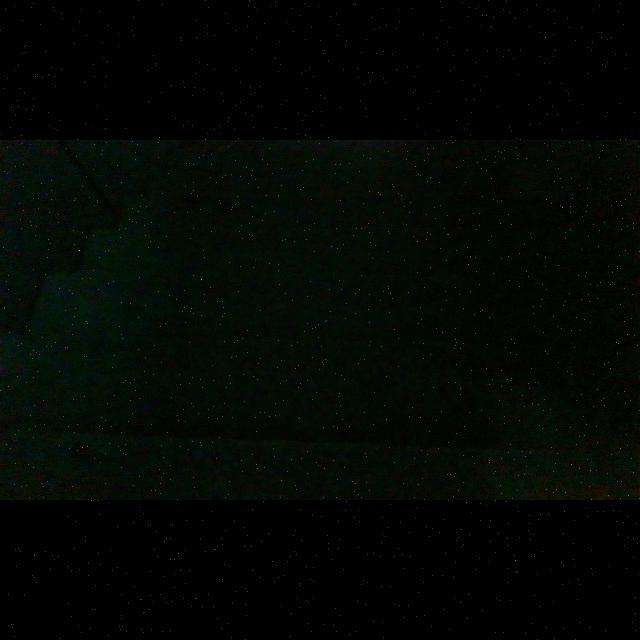stair: (19, 144, 640, 482)
